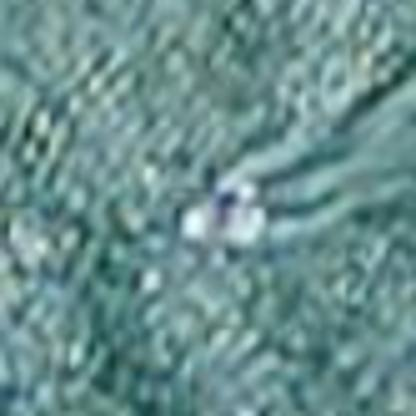ship: (166, 176, 301, 259)
